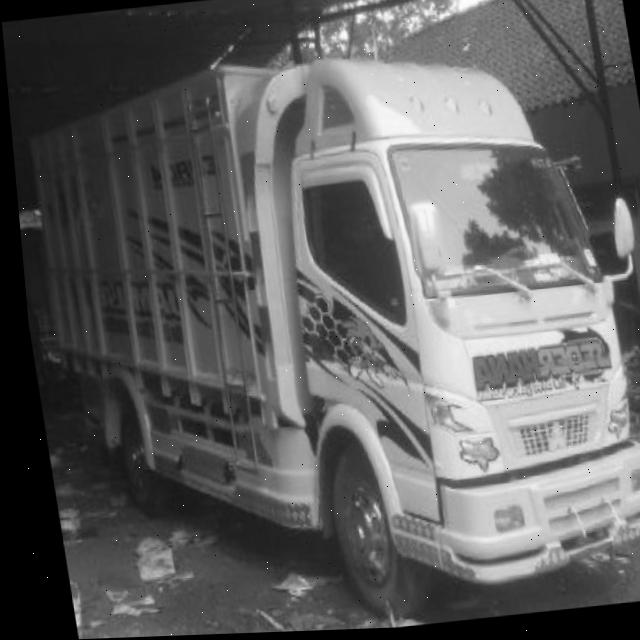truck: (225, 25, 640, 629)
